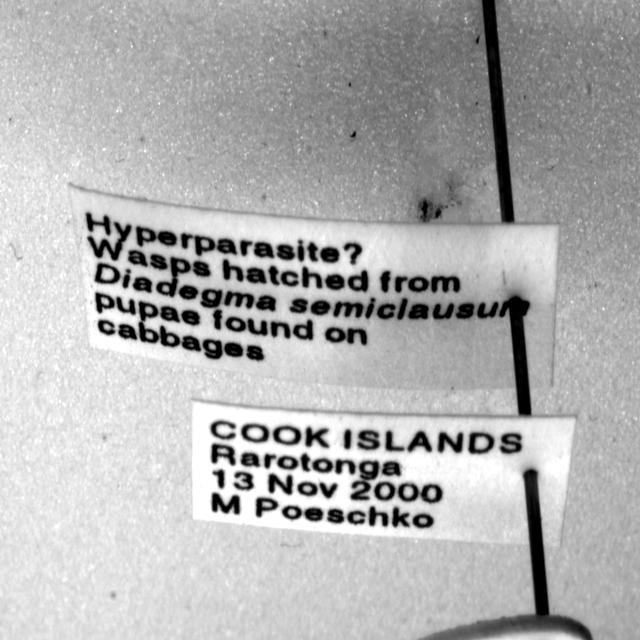typed_label: (70, 186, 559, 388), (192, 401, 575, 546)
